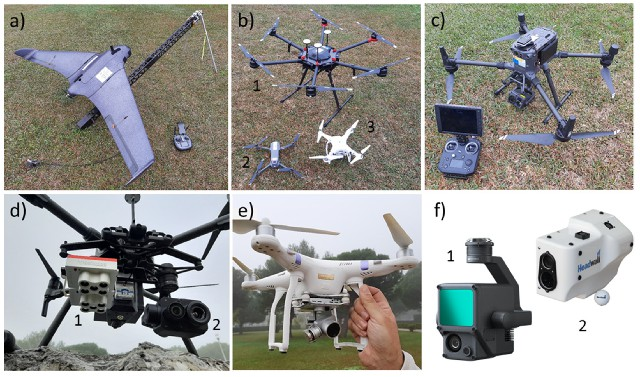maybay_khongnguoilai: (18, 182, 219, 343), (228, 208, 415, 351), (439, 12, 625, 146), (17, 41, 161, 180), (245, 10, 407, 103), (238, 130, 313, 183), (311, 114, 374, 166)
